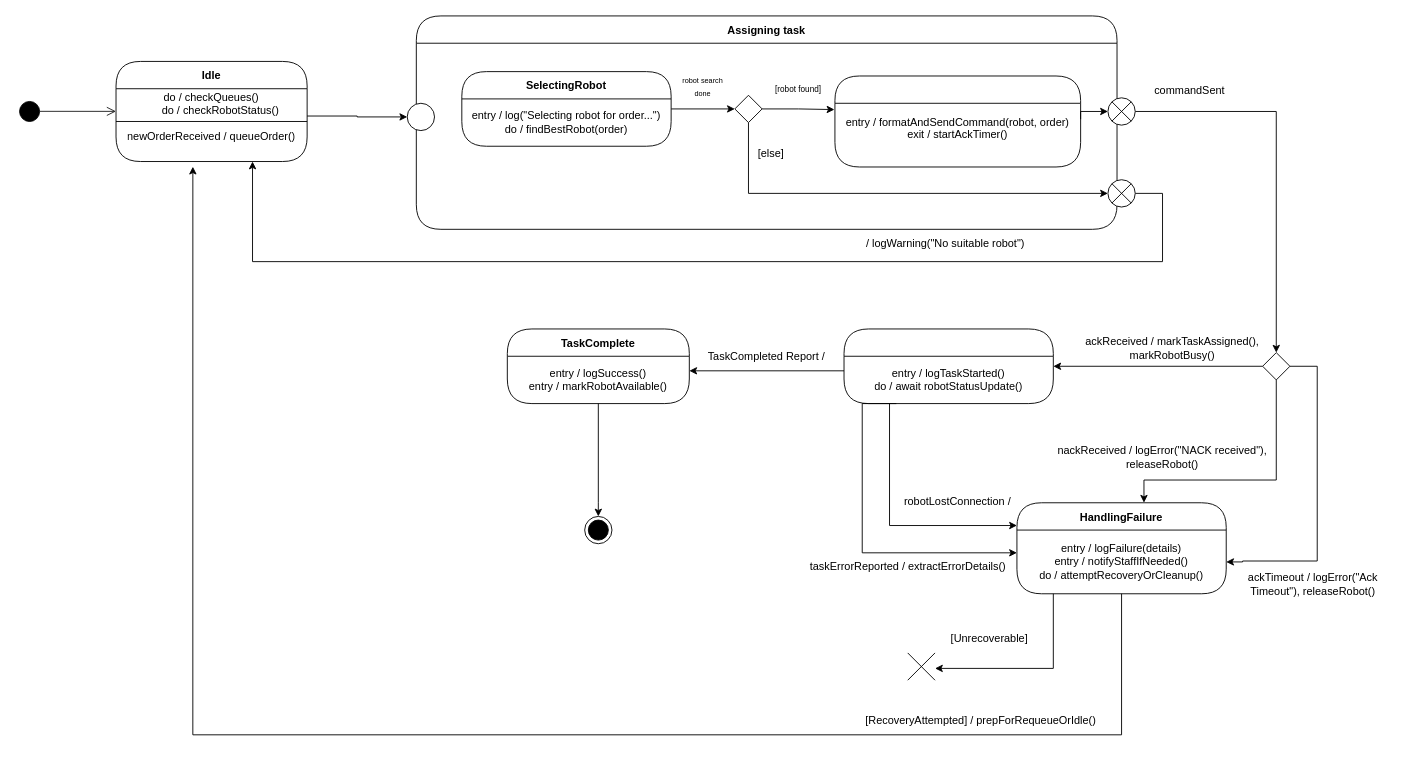
This 1407x758 diagram has some shape labels left out. Each missing label, with the box of its shape:
Monitoring Task: (843, 328, 1053, 404)
SendingCommand: (834, 75, 1081, 167)
